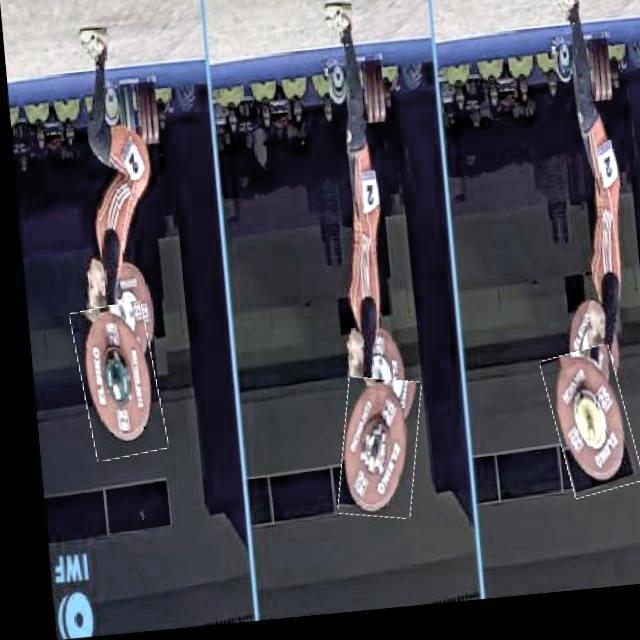barbell: (66, 303, 156, 462), (537, 357, 629, 510), (325, 382, 417, 529)
